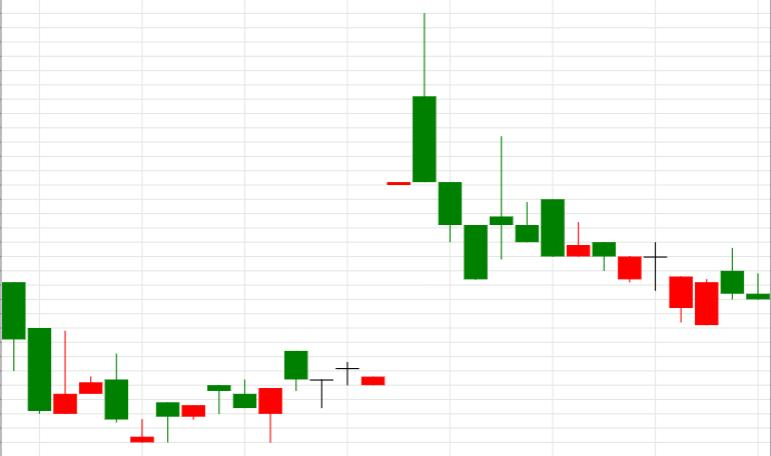three_black_crows_fall: (259, 13, 488, 444)
